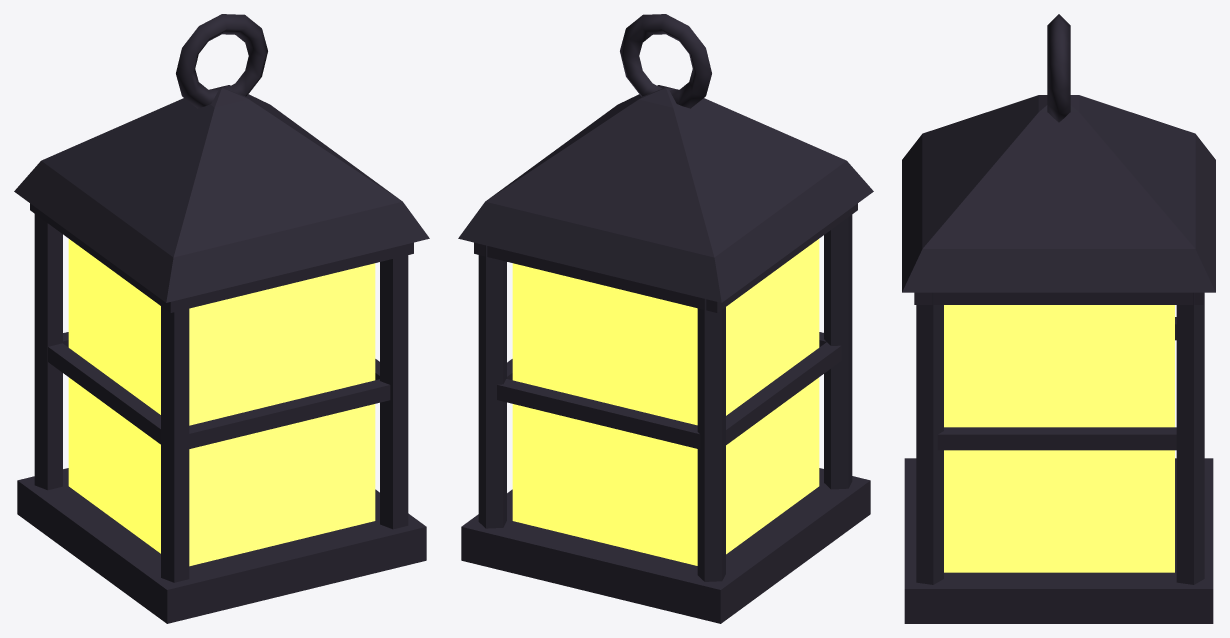
The model's file is lantern.glb.
The picture shows the model from 3 angles, left to right: view 1: azimuth 30°, elevation 25°; view 2: azimuth 150°, elevation 25°; view 3: azimuth 270°, elevation 25°; orthographic projection. The views are drawn at different scales.
Visible parts, largest first — view 1: lantern.001; view 2: lantern.001; view 3: lantern.001.
Boxes of the visible parts, left/top/right/bottom form: lantern.001: left=14, top=14, right=429, bottom=623; lantern.001: left=458, top=14, right=873, bottom=623; lantern.001: left=902, top=14, right=1215, bottom=623.
Bounding box in the file's own units: 0.3253 × 0.677 × 0.3253.
